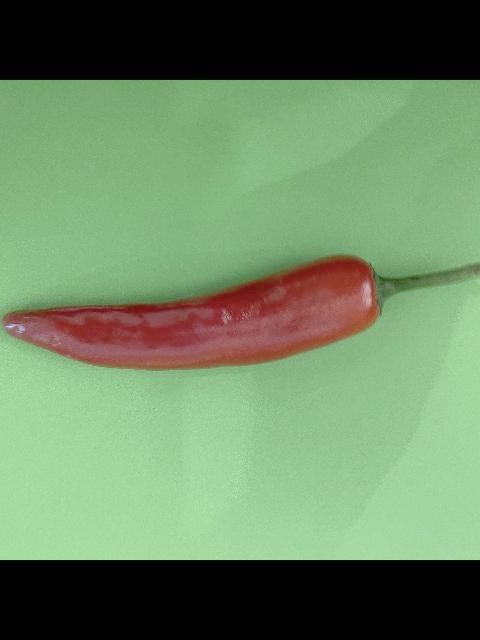chilli: (0, 252, 480, 374)
